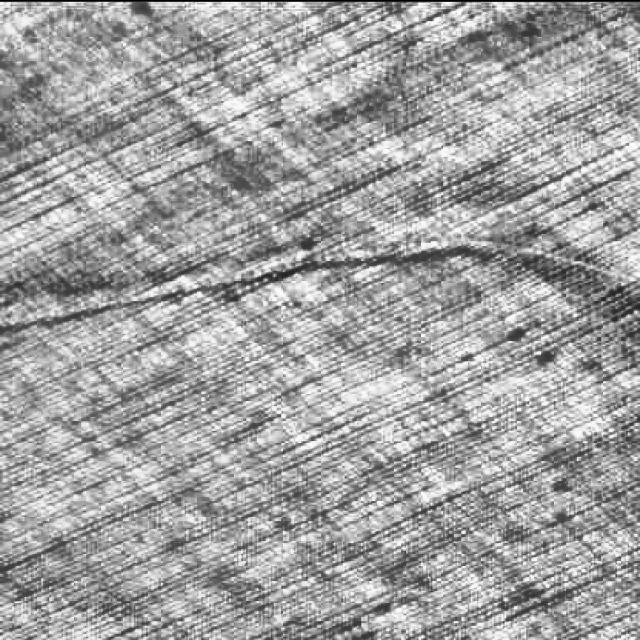thread_error: (0, 224, 640, 358)
